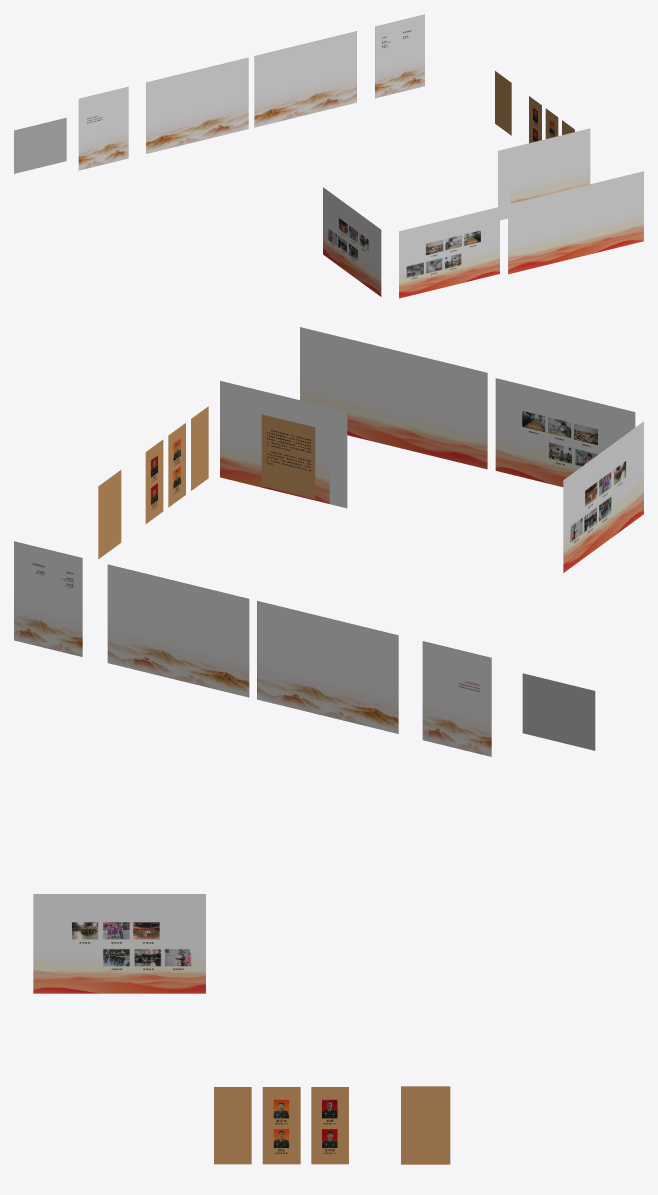
File: 保障中队.fbx
3 views of the same model, one above another, from view 1: azimuth 30°, elevation 25°; view 2: azimuth 150°, elevation 25°; view 3: azimuth 270°, elevation 25° (orthographic). The views are drawn at different scales.
Visible parts, largest first — view 1: 供应保障中队_建设成就, 供应保障中队_发展历程右, 供应保障中队_发展历程左, 供应保障中队_军营文化, 供应保障中队_重大任务, 供应保障中队_官兵风采, 供应保障中队_历史沿革, 供应保障中队_历任主官, 供应保障中队_前言, 供应保障中队_集体荣誉, 供应保障中队_个人荣誉左; view 2: 供应保障中队_建设成就, 供应保障中队_发展历程右, 供应保障中队_发展历程左, 供应保障中队_军营文化, 供应保障中队_重大任务, 供应保障中队_官兵风采, 供应保障中队_历史沿革, 供应保障中队_历任主官, 供应保障中队_前言, 供应保障中队_未来寄语, 供应保障中队_集体荣誉, 供应保障中队_个人荣誉左 (+2 smaller); view 3: 供应保障中队_官兵风采, 供应保障中队_集体荣誉, 供应保障中队_个人荣誉中, 供应保障中队_个人荣誉右, 供应保障中队_个人荣誉左.
Boxes of the visible parts, left/top/right/bottom form: 供应保障中队_建设成就: left=508, top=171, right=643, bottom=274; 供应保障中队_发展历程右: left=254, top=31, right=356, bottom=127; 供应保障中队_发展历程左: left=146, top=57, right=248, bottom=153; 供应保障中队_军营文化: left=399, top=207, right=499, bottom=298; 供应保障中队_重大任务: left=498, top=128, right=590, bottom=220; 供应保障中队_官兵风采: left=323, top=187, right=381, bottom=296; 供应保障中队_历史沿革: left=78, top=86, right=128, bottom=170; 供应保障中队_历任主官: left=375, top=14, right=424, bottom=98; 供应保障中队_前言: left=14, top=117, right=66, bottom=173; 供应保障中队_集体荣誉: left=495, top=71, right=511, bottom=135; 供应保障中队_个人荣誉左: left=529, top=96, right=541, bottom=143; 供应保障中队_建设成就: left=300, top=327, right=487, bottom=469; 供应保障中队_发展历程右: left=107, top=564, right=249, bottom=697; 供应保障中队_发展历程左: left=257, top=601, right=398, bottom=733; 供应保障中队_军营文化: left=495, top=378, right=635, bottom=486; 供应保障中队_重大任务: left=220, top=381, right=347, bottom=508; 供应保障中队_官兵风采: left=563, top=421, right=643, bottom=572; 供应保障中队_历史沿革: left=422, top=641, right=491, bottom=756; 供应保障中队_历任主官: left=14, top=541, right=82, bottom=656; 供应保障中队_前言: left=522, top=673, right=595, bottom=750; 供应保障中队_未来寄语: left=261, top=414, right=315, bottom=498; 供应保障中队_集体荣誉: left=98, top=470, right=121, bottom=558; 供应保障中队_个人荣誉左: left=145, top=439, right=163, bottom=523; 供应保障中队_官兵风采: left=33, top=894, right=205, bottom=993; 供应保障中队_集体荣誉: left=401, top=1086, right=450, bottom=1164; 供应保障中队_个人荣誉中: left=262, top=1087, right=300, bottom=1164; 供应保障中队_个人荣誉右: left=214, top=1087, right=251, bottom=1164; 供应保障中队_个人荣誉左: left=311, top=1087, right=348, bottom=1164.
Bounding box in the file's own units: 1325 × 216 × 1154.
